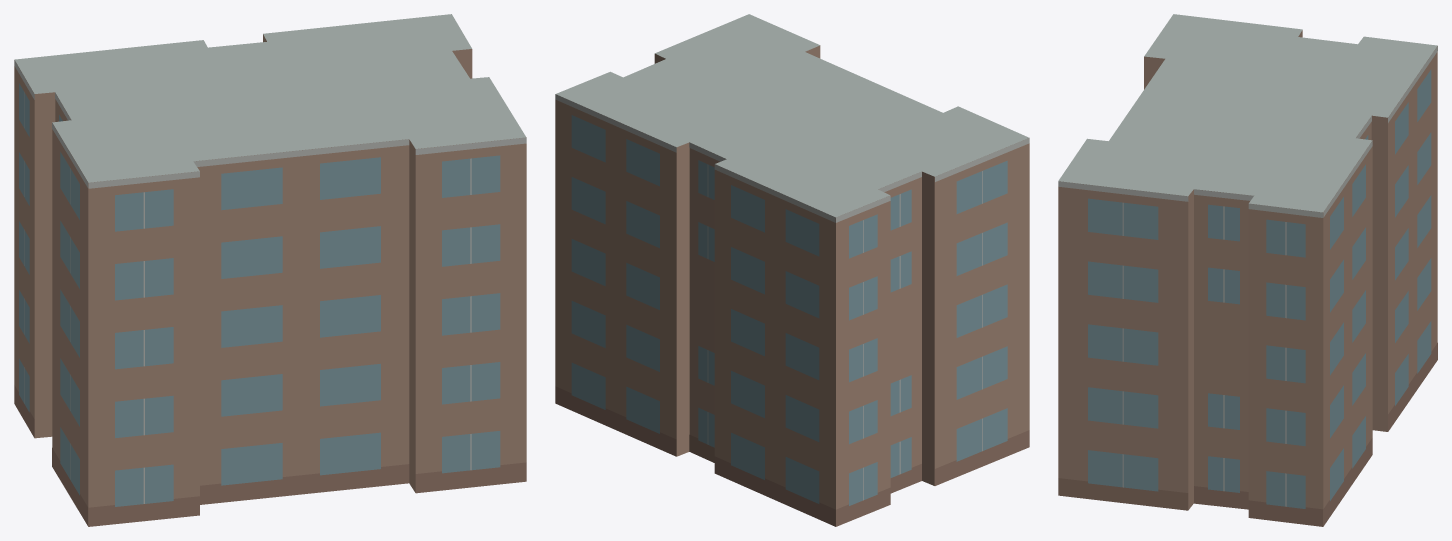
Rendered from survey-upis-32765203.glb.
3 renders of one model, left to right at view 1: azimuth 30°, elevation 25°; view 2: azimuth 150°, elevation 25°; view 3: azimuth 270°, elevation 25°, orthographic. The views are drawn at different scales.
Visible parts, largest first — view 1: survey-upis-32765203.tmp; view 2: survey-upis-32765203.tmp; view 3: survey-upis-32765203.tmp.
Boxes of the visible parts, bbox=[...] form: survey-upis-32765203.tmp: bbox=[14, 14, 526, 526]; survey-upis-32765203.tmp: bbox=[555, 14, 1029, 526]; survey-upis-32765203.tmp: bbox=[1058, 14, 1437, 526].
Bounding box in the file's own units: 18.56 × 13.7 × 15.
